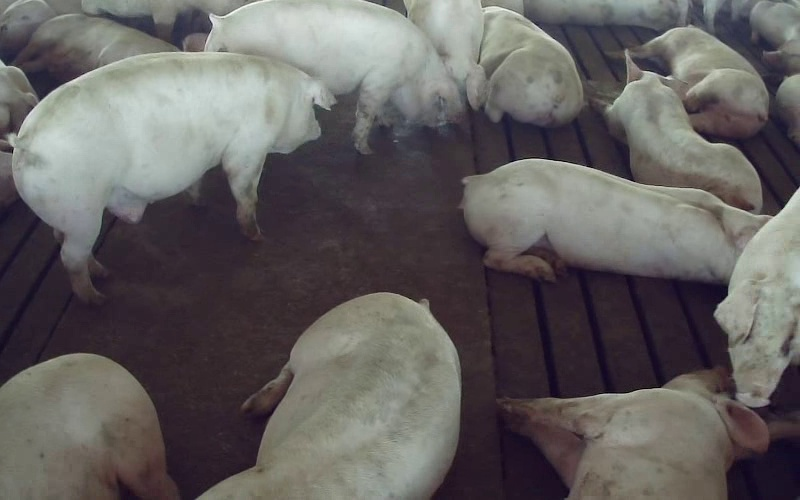pig: (12, 52, 334, 303), (198, 293, 460, 499), (206, 0, 462, 153), (463, 159, 768, 283), (499, 369, 768, 499), (592, 51, 761, 212), (715, 189, 799, 406), (629, 26, 768, 138), (479, 7, 583, 126), (12, 14, 177, 81), (404, 0, 486, 109)
